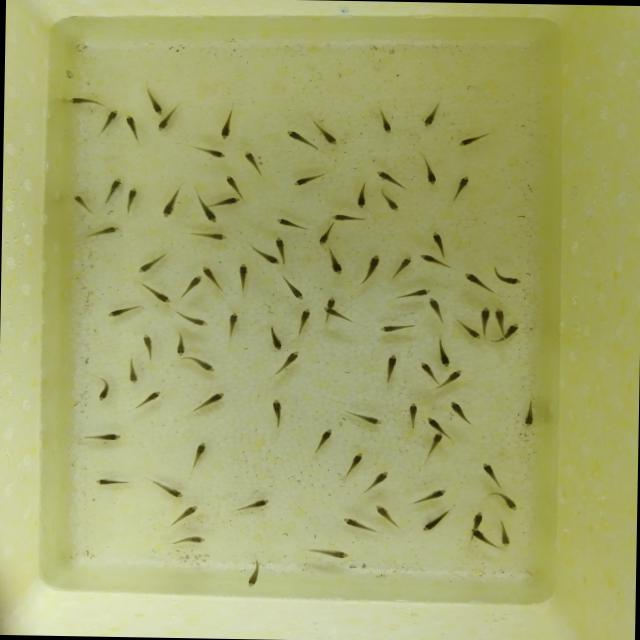fingerling: (267, 349, 301, 382), (186, 389, 227, 416), (158, 182, 186, 220), (290, 166, 328, 193), (355, 253, 382, 290), (476, 460, 509, 490), (238, 146, 268, 178), (128, 388, 164, 414), (165, 502, 199, 528), (264, 396, 290, 430), (93, 106, 120, 138), (342, 408, 385, 428), (147, 478, 185, 500), (138, 249, 170, 275), (139, 279, 172, 304), (416, 152, 440, 186), (301, 544, 352, 560), (168, 304, 205, 326), (373, 502, 402, 530), (320, 299, 350, 326), (140, 85, 167, 115), (359, 470, 390, 496), (372, 166, 407, 189), (230, 496, 270, 516), (408, 486, 448, 506), (81, 427, 125, 445), (120, 110, 143, 144), (184, 226, 230, 243), (64, 92, 110, 109), (420, 508, 450, 534), (492, 262, 522, 288), (321, 245, 346, 276), (454, 128, 492, 148), (188, 142, 230, 160), (416, 252, 453, 272), (448, 400, 474, 428), (192, 194, 218, 222), (389, 253, 414, 282), (280, 273, 304, 303), (448, 172, 472, 202), (104, 302, 144, 320), (101, 176, 123, 208), (338, 515, 375, 534), (262, 323, 286, 352), (286, 128, 316, 151), (484, 490, 518, 510), (422, 430, 443, 462), (312, 426, 336, 454), (200, 266, 224, 294), (216, 108, 237, 140), (450, 318, 480, 340), (460, 269, 490, 291), (184, 441, 210, 466), (377, 190, 404, 214), (244, 556, 262, 592), (468, 528, 496, 551), (185, 353, 214, 375), (176, 274, 200, 300), (435, 368, 461, 392), (374, 106, 396, 134), (235, 261, 253, 295), (379, 354, 398, 386), (402, 400, 421, 432), (220, 173, 244, 198), (93, 372, 113, 402), (350, 178, 370, 208), (317, 120, 340, 146), (66, 192, 92, 214), (139, 332, 158, 362), (435, 338, 454, 368), (168, 532, 208, 546), (88, 221, 120, 238), (92, 474, 130, 488), (420, 104, 442, 128), (521, 398, 538, 429), (312, 222, 333, 247), (330, 212, 370, 225), (418, 362, 439, 386), (122, 186, 140, 214), (123, 354, 139, 385), (346, 449, 364, 476), (223, 313, 238, 345), (424, 296, 444, 320), (428, 230, 448, 254), (496, 517, 512, 546), (396, 286, 429, 300), (295, 304, 313, 329), (152, 115, 175, 134), (274, 217, 306, 230), (378, 322, 412, 334), (477, 304, 492, 330), (216, 195, 240, 211), (273, 234, 288, 259), (260, 252, 280, 270), (174, 328, 186, 358), (492, 305, 506, 326), (504, 322, 522, 338), (470, 510, 486, 528), (424, 414, 444, 428)
